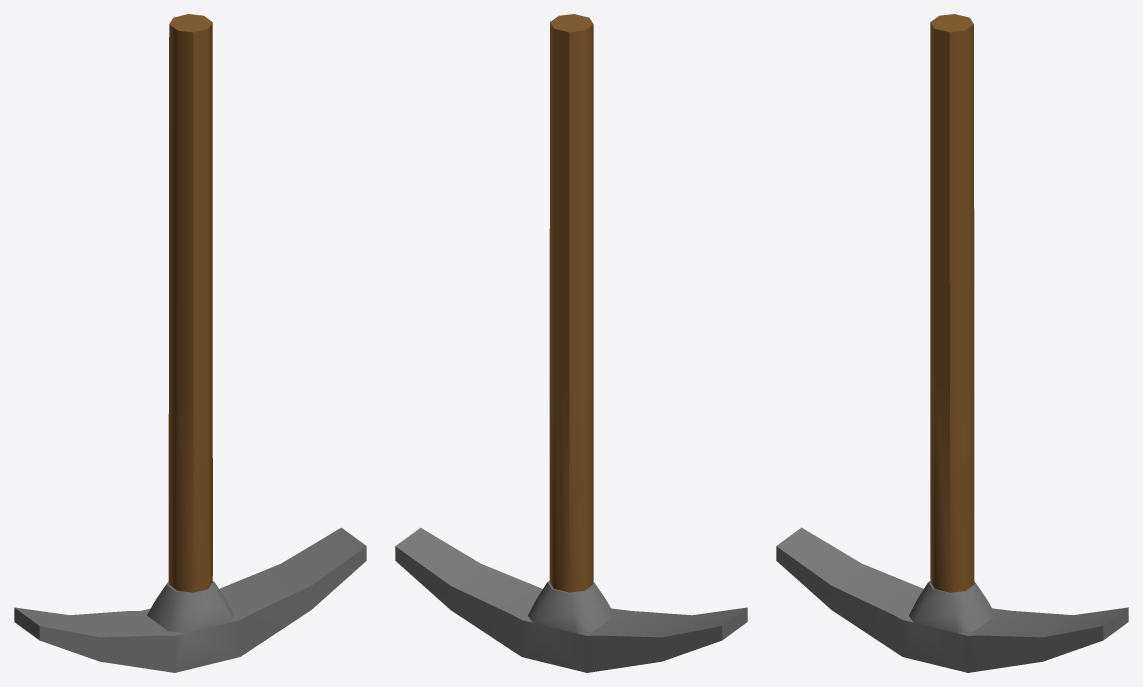
Rendered from Pickaxe_1.fbx.
3 renders of one model, left to right at view 1: azimuth 30°, elevation 25°; view 2: azimuth 150°, elevation 25°; view 3: azimuth 330°, elevation 25°, orthographic.
Parts seen in each view (by area): view 1: Pickaxe_1; view 2: Pickaxe_1; view 3: Pickaxe_1.
Part boxes in pixels (<box>): Pickaxe_1: <box>14,14,366,672</box>; Pickaxe_1: <box>395,14,747,672</box>; Pickaxe_1: <box>776,14,1128,672</box>.
Size of the model in its own units: 0.2755 by 0.5124 by 0.0499.
